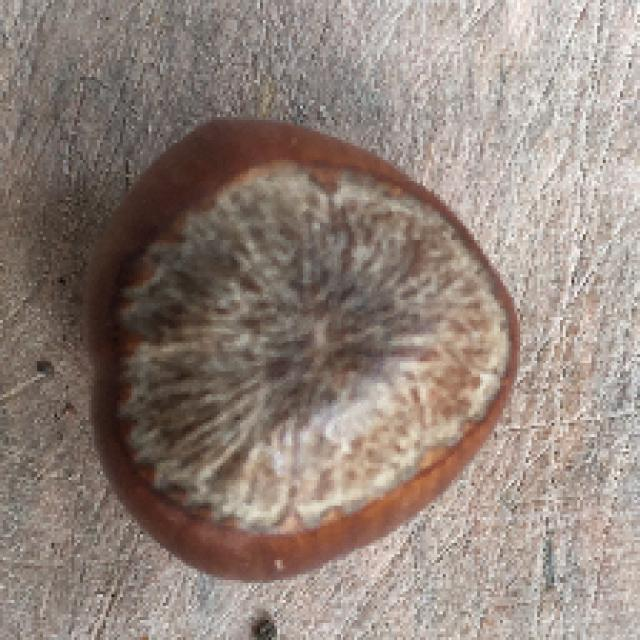qualityHazelnut: (79, 124, 516, 573)
